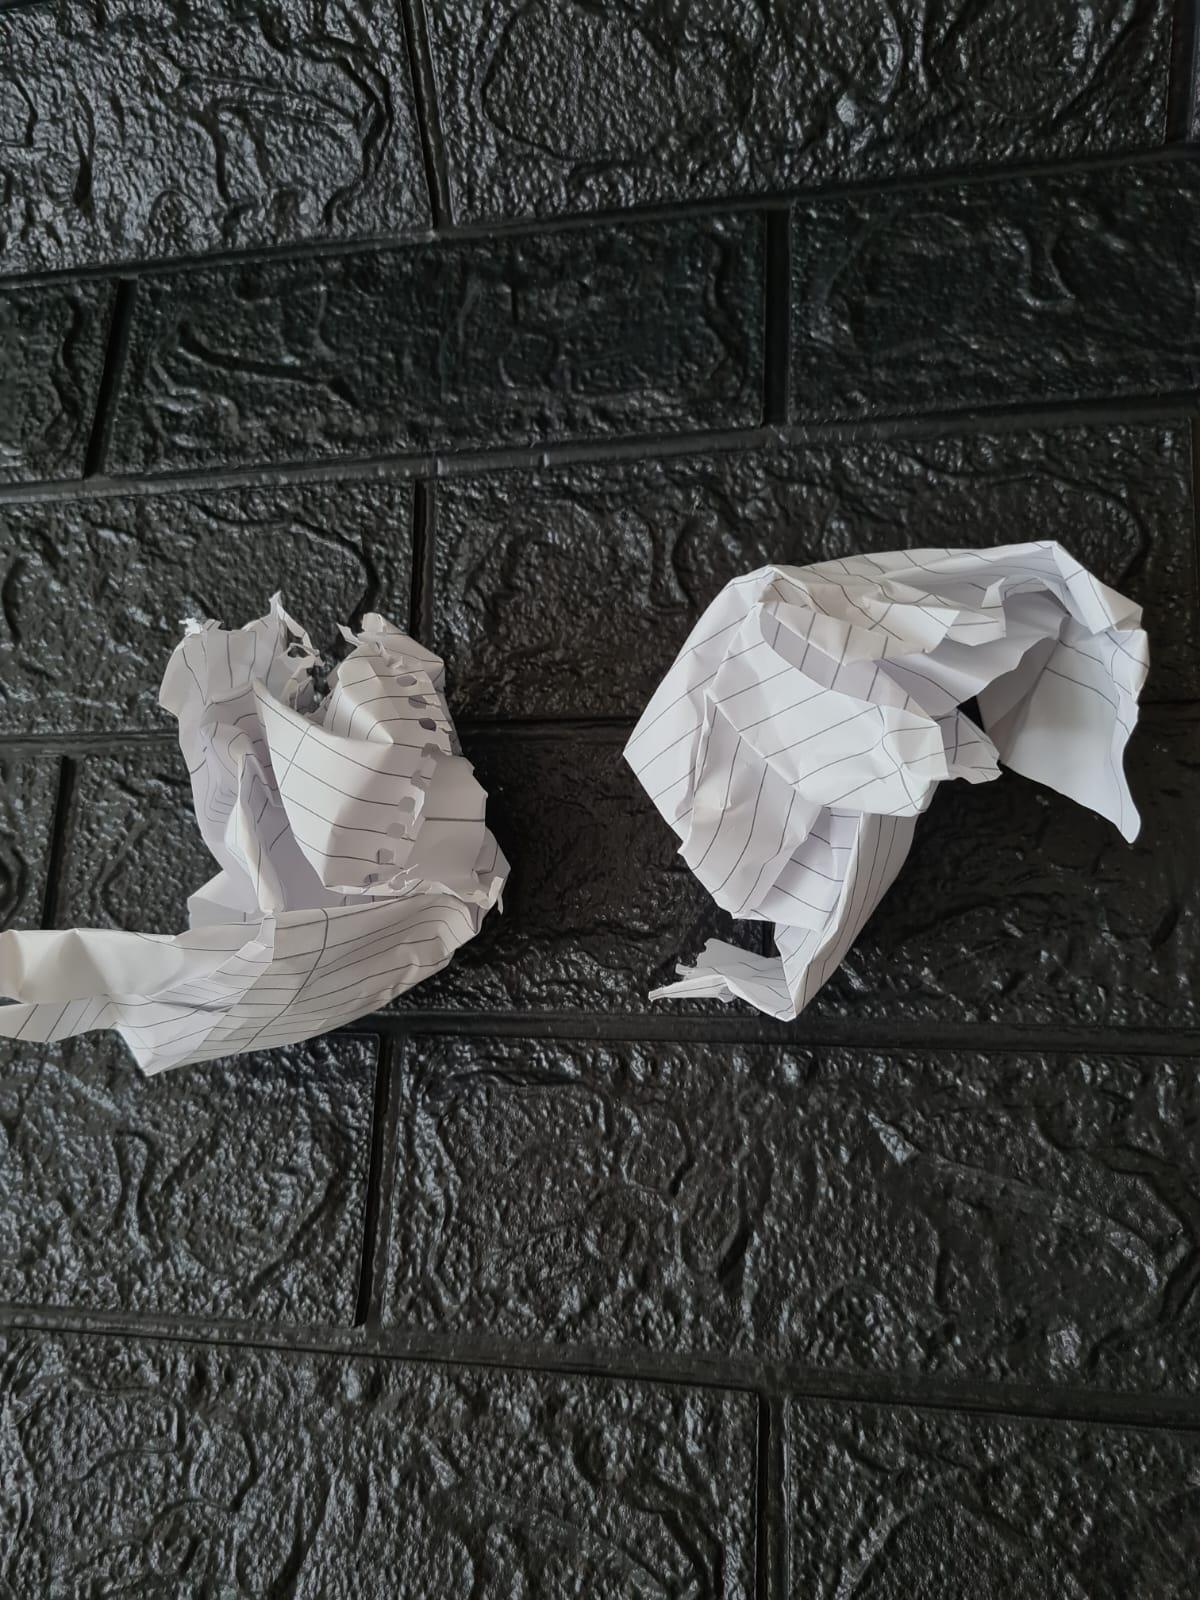Paper: (650, 527, 1178, 1007), (27, 601, 505, 1074)
